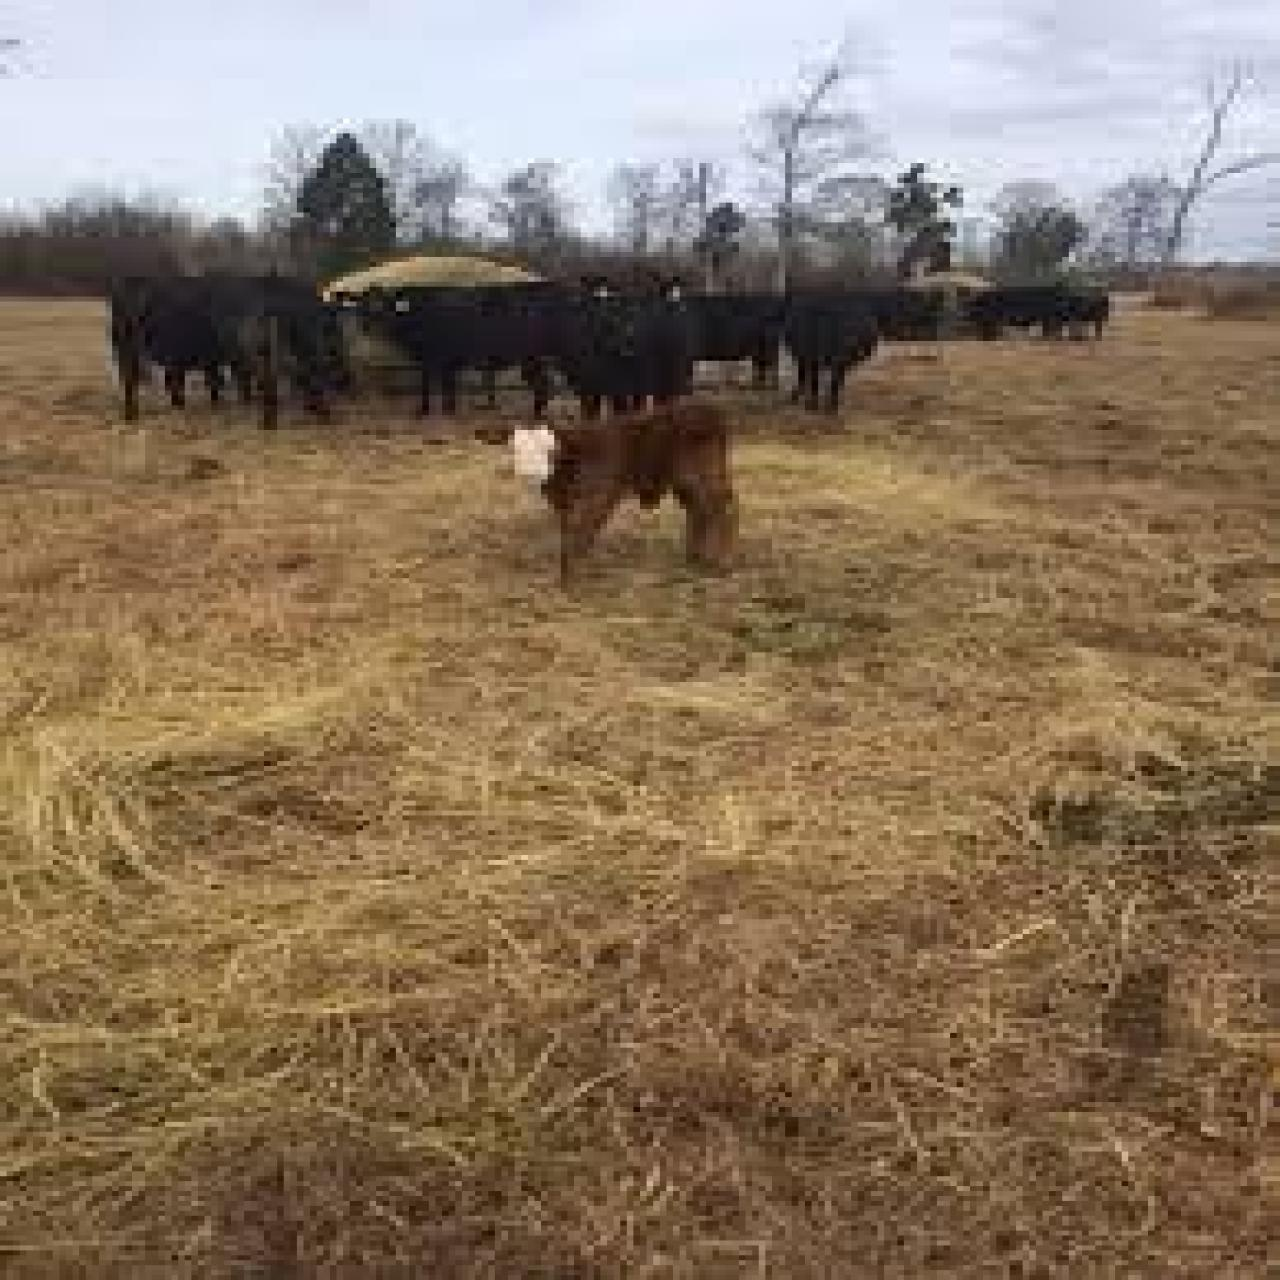cow: (478, 399, 742, 571), (116, 279, 360, 428), (327, 287, 564, 421), (561, 272, 706, 415), (772, 290, 884, 413)
